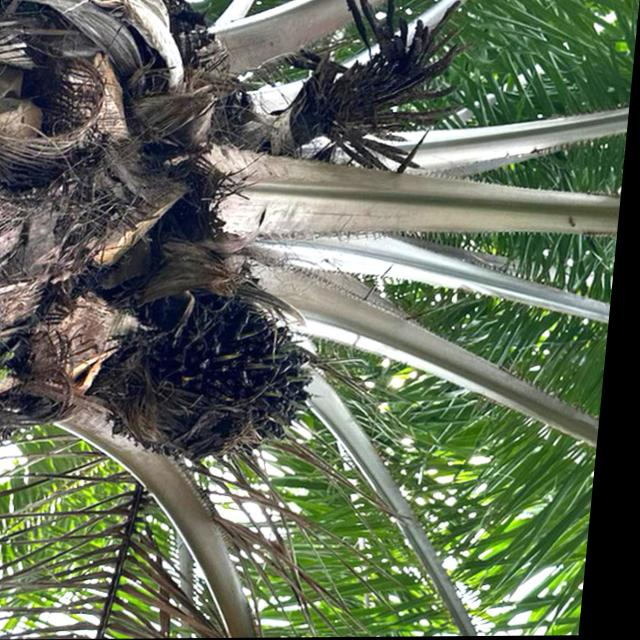unripe: (95, 280, 344, 471)
